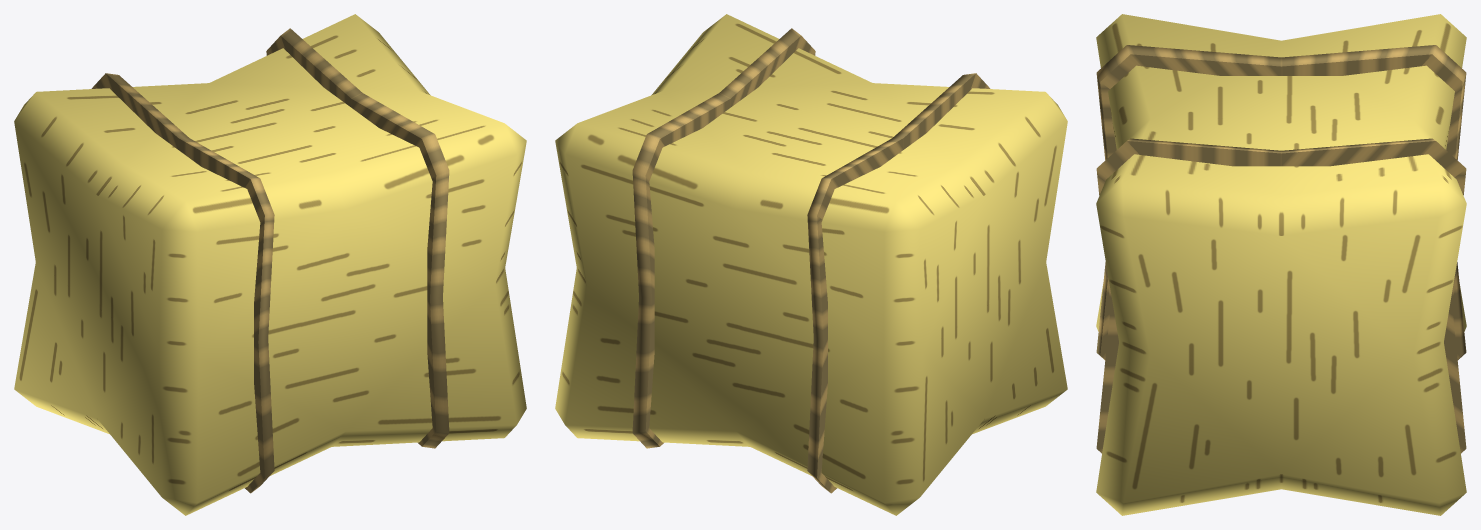
File: HayBale.fbx
3 views of the same model, side by side, from view 1: azimuth 30°, elevation 25°; view 2: azimuth 150°, elevation 25°; view 3: azimuth 270°, elevation 25° (orthographic). The views are drawn at different scales.
Parts seen in each view (by area): view 1: HayBale; view 2: HayBale; view 3: HayBale.
Part boxes in pixels (x1=…): HayBale: x1=14, y1=14, x2=526, y2=515; HayBale: x1=555, y1=14, x2=1067, y2=515; HayBale: x1=1096, y1=14, x2=1466, y2=515.
Bounding box in the file's own units: 211 × 176 × 174.
2 materials, 2 textured.
